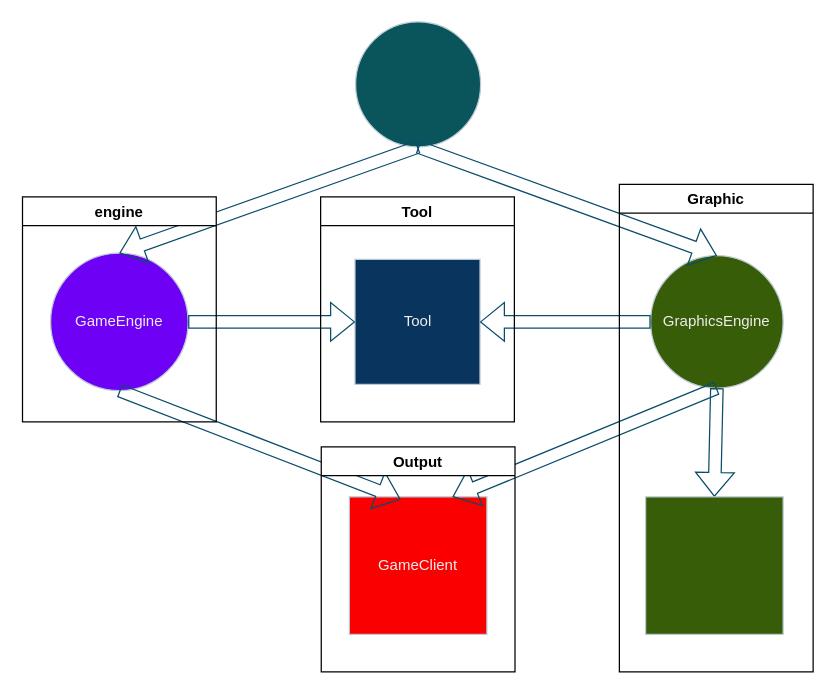
The diagram is 835 pixels wide and 694 high, and some of its shapes have lost their labels. The centre of each missing label's shape, as x and y in pixels:
"GraphicsDemo" belongs at pixel 713 565.
"Math" belongs at pixel 417 84.
